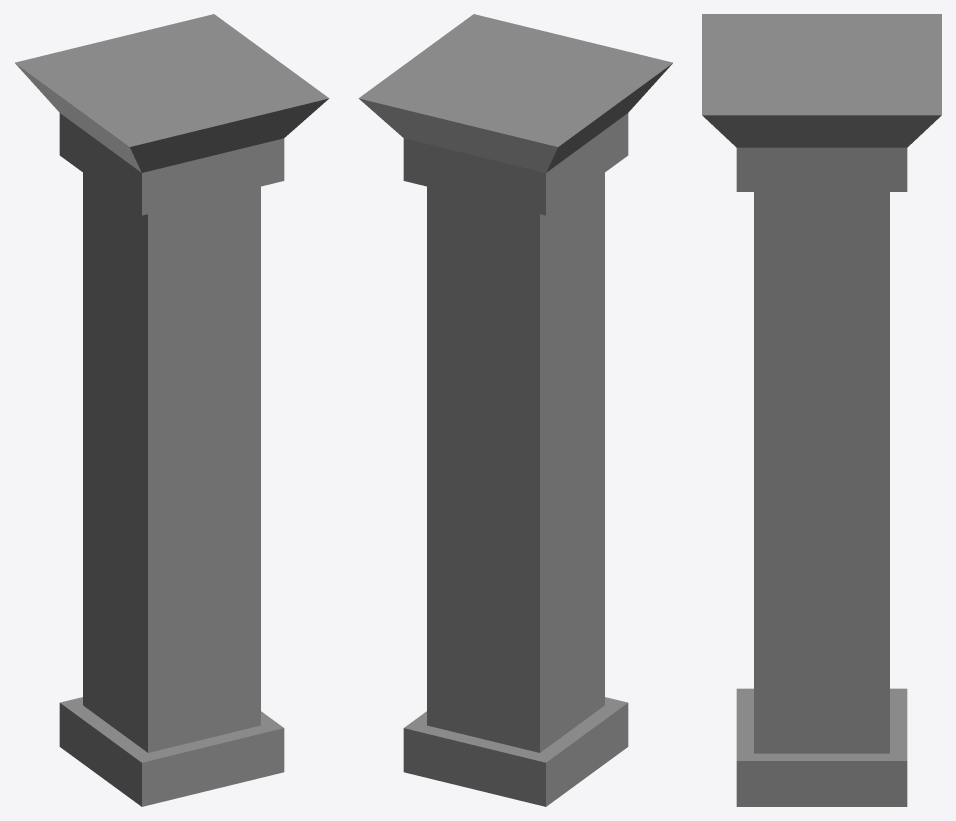
The model's file is Column_1_1.fbx.
3 renders of one model, left to right at view 1: azimuth 30°, elevation 25°; view 2: azimuth 150°, elevation 25°; view 3: azimuth 270°, elevation 25°, orthographic. The views are drawn at different scales.
Visible parts, largest first — view 1: Column_1_1; view 2: Column_1_1; view 3: Column_1_1.
Part boxes in pixels (x1,y1,x2,y2): Column_1_1: (15,14,329,806); Column_1_1: (358,14,672,806); Column_1_1: (702,14,941,806).
Bounding box in the file's own units: 27.83 × 90.41 × 27.83.
